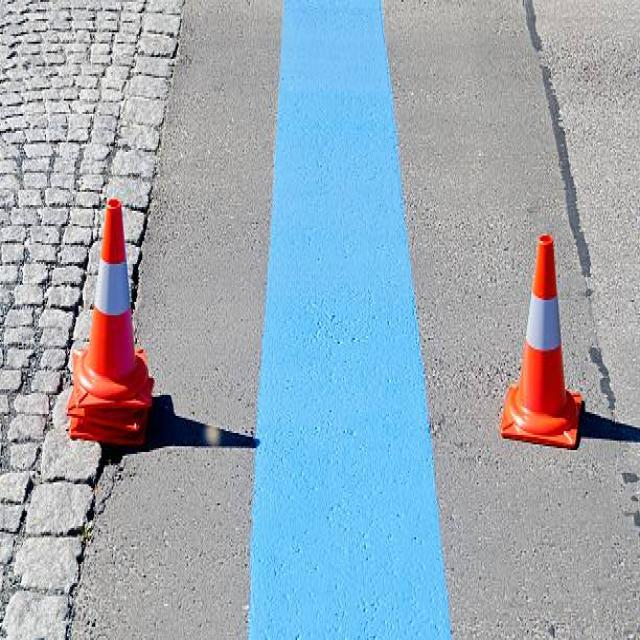Traffic Cone: (486, 203, 598, 481), (56, 163, 166, 422)
